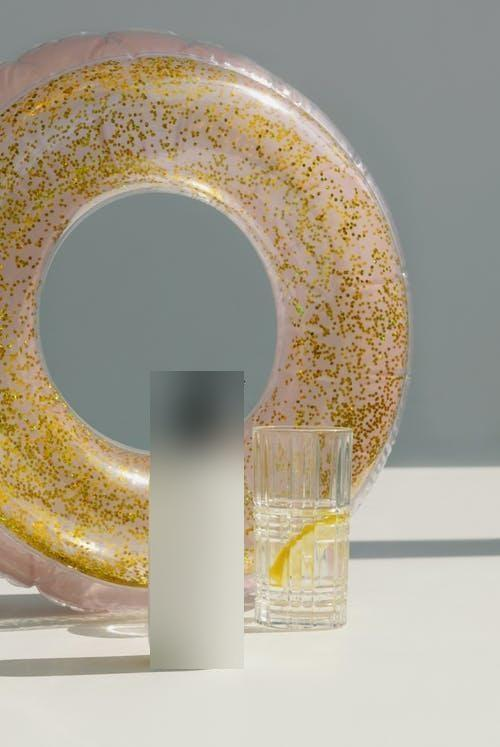glass-normal: (246, 418, 358, 630)
